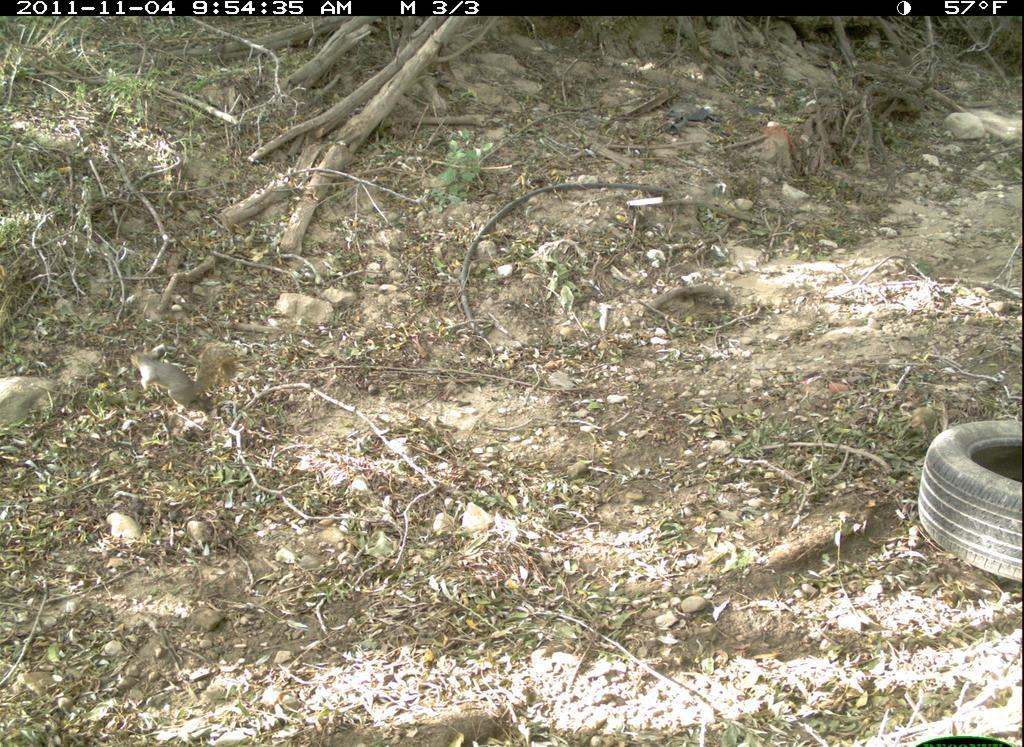squirrel: (129, 340, 242, 417)
